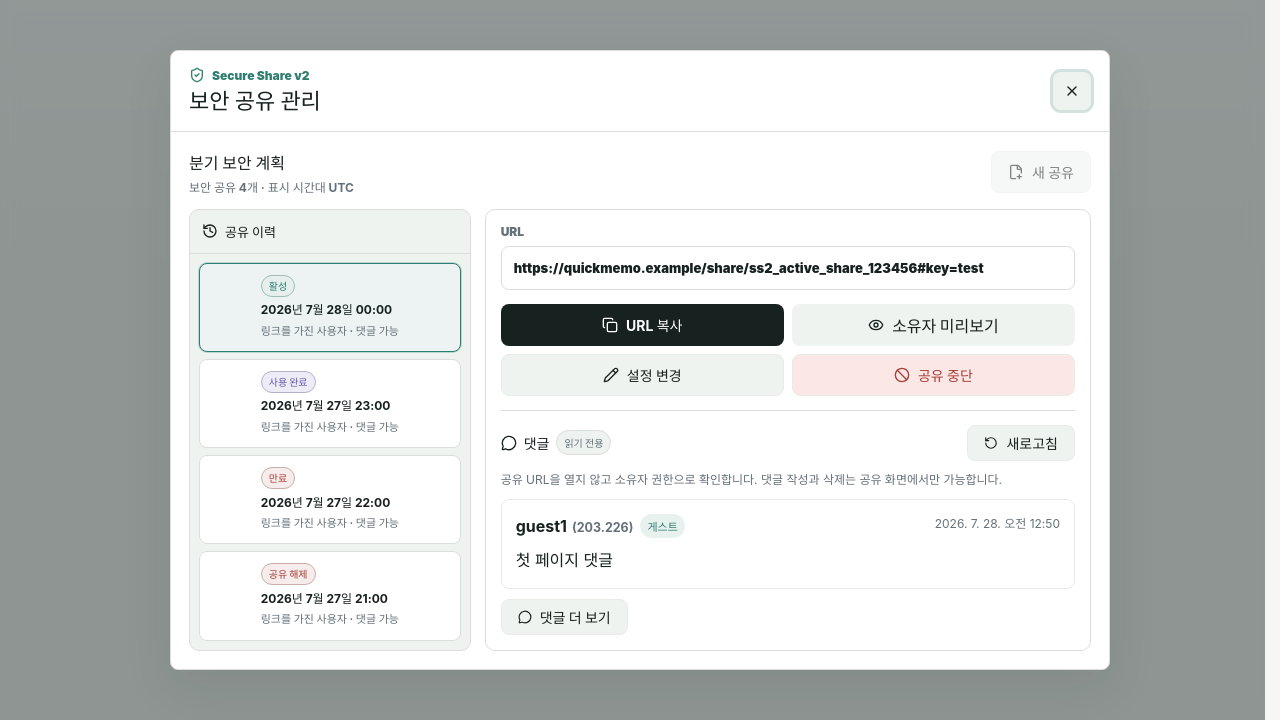
SecureShareOwnerModal management history › loads comment cursor pages explicitly and removes duplicate ids
This screenshot has width=1280, height=720.
(page scrolled)
Expected: the text "첫 페이지 댓글" is shown, [516,550,613,570]
Click the button "댓글 더 보기": (564, 617) [501,599,628,635]
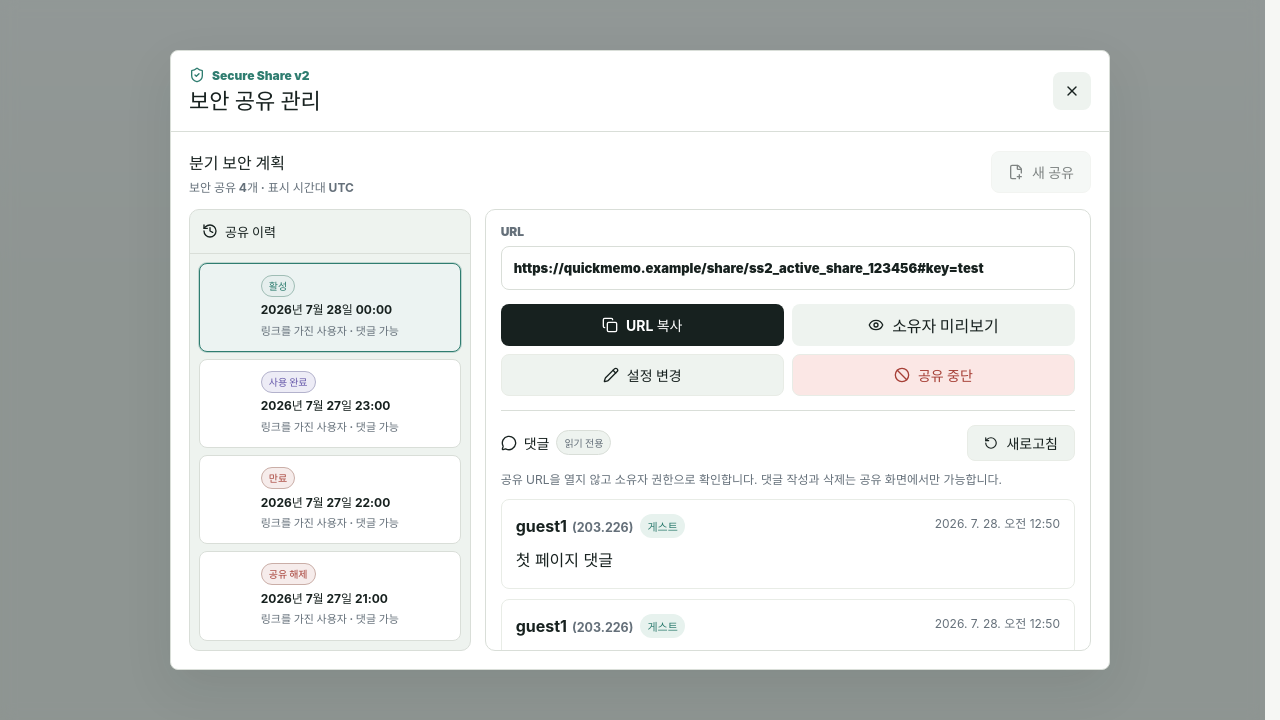
Now the text "첫 페이지 댓글" is shown once, box [516,550,613,570]
